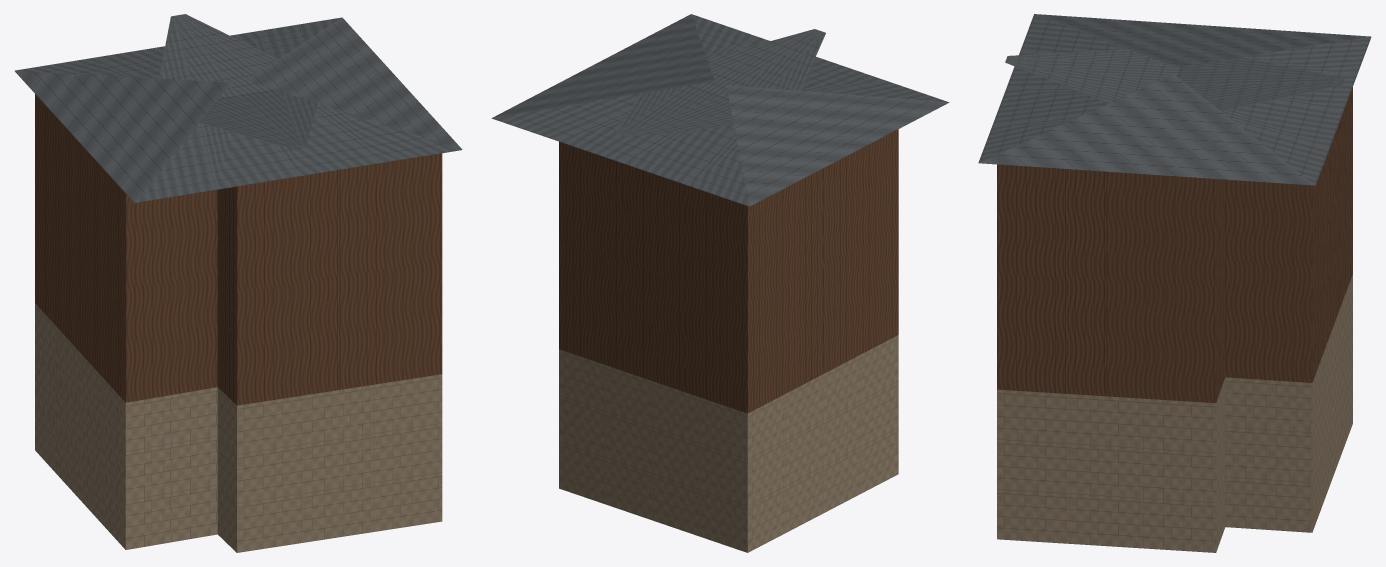
Rendered from bld_c10_8_508.gltf.
3 views of the same model, side by side, from view 1: azimuth 30°, elevation 25°; view 2: azimuth 150°, elevation 25°; view 3: azimuth 270°, elevation 25° (orthographic). The views are drawn at different scales.
Parts seen in each view (by area): view 1: bld_c10_8_508; view 2: bld_c10_8_508; view 3: bld_c10_8_508.
Boxes of the visible parts, x1,y1,x2,y2 form: bld_c10_8_508: (14,14,462,552); bld_c10_8_508: (491,14,949,552); bld_c10_8_508: (978,14,1371,552).
Bounding box in the file's own units: 12.55 × 14 × 12.14.
3 materials, 3 textured.
